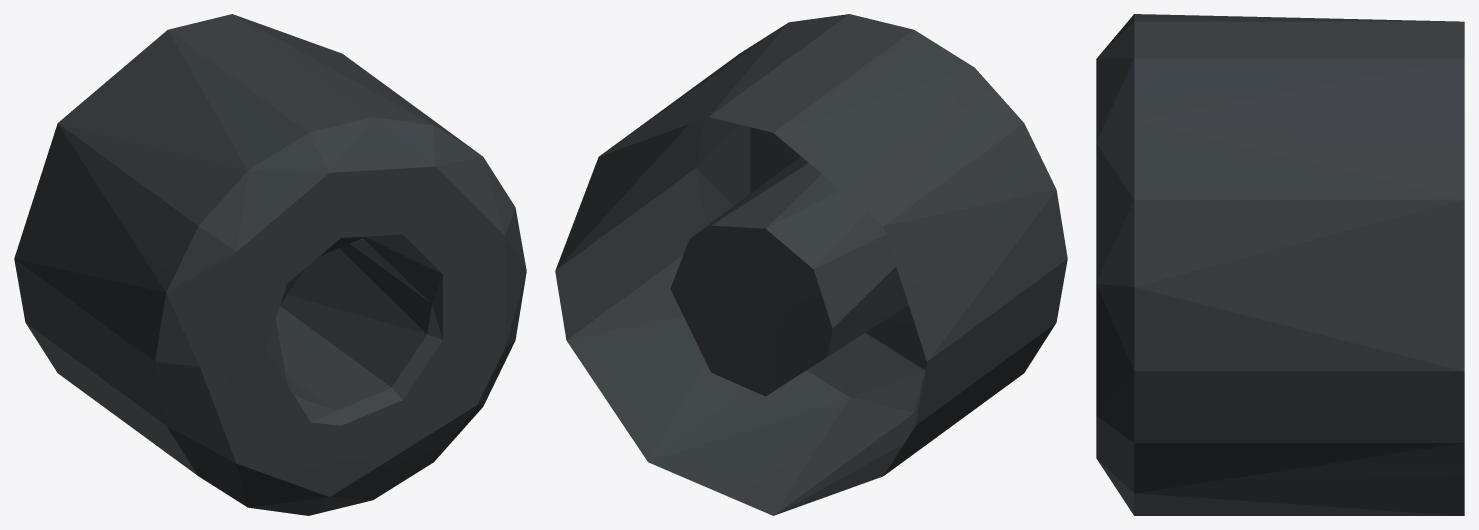
File: Pipe_01.FBX
3 views of the same model, side by side, from view 1: azimuth 30°, elevation 25°; view 2: azimuth 150°, elevation 25°; view 3: azimuth 270°, elevation 25° (orthographic). The views are drawn at different scales.
Parts seen in each view (by area): view 1: Pipe_01; view 2: Pipe_01; view 3: Pipe_01.
Part boxes in pixels (x1=…): Pipe_01: x1=14, y1=14, x2=526, y2=515; Pipe_01: x1=555, y1=14, x2=1067, y2=515; Pipe_01: x1=1096, y1=14, x2=1464, y2=515.
Size of the model in its own units: 1.19 by 1.18 by 0.8729.
